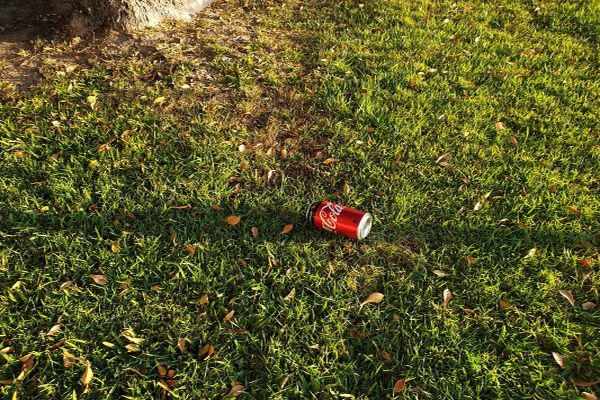Plastic Bottle: (305, 199, 373, 241)
